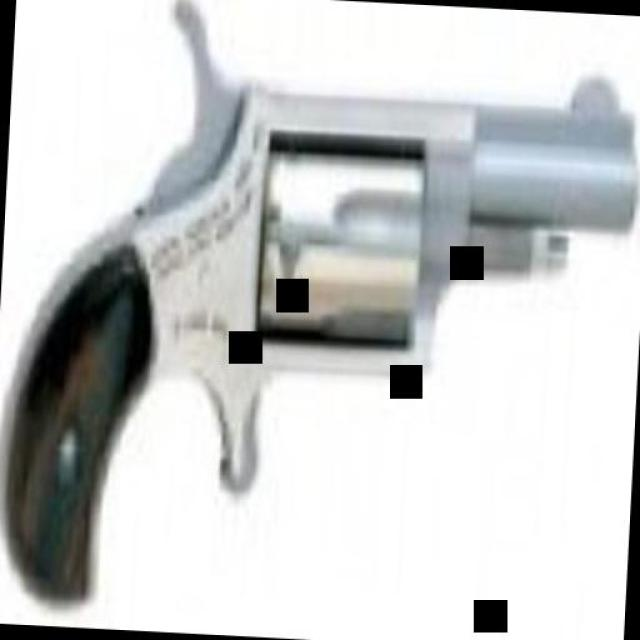gun: (4, 0, 640, 628)
